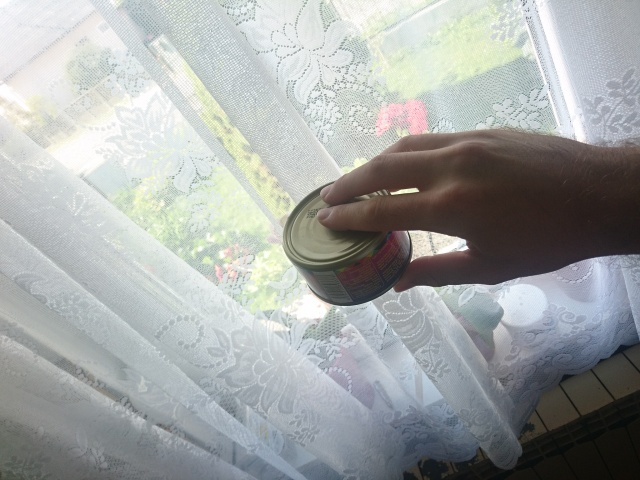Giana Tuna Salad Mexico 185g: (279, 175, 415, 308)
